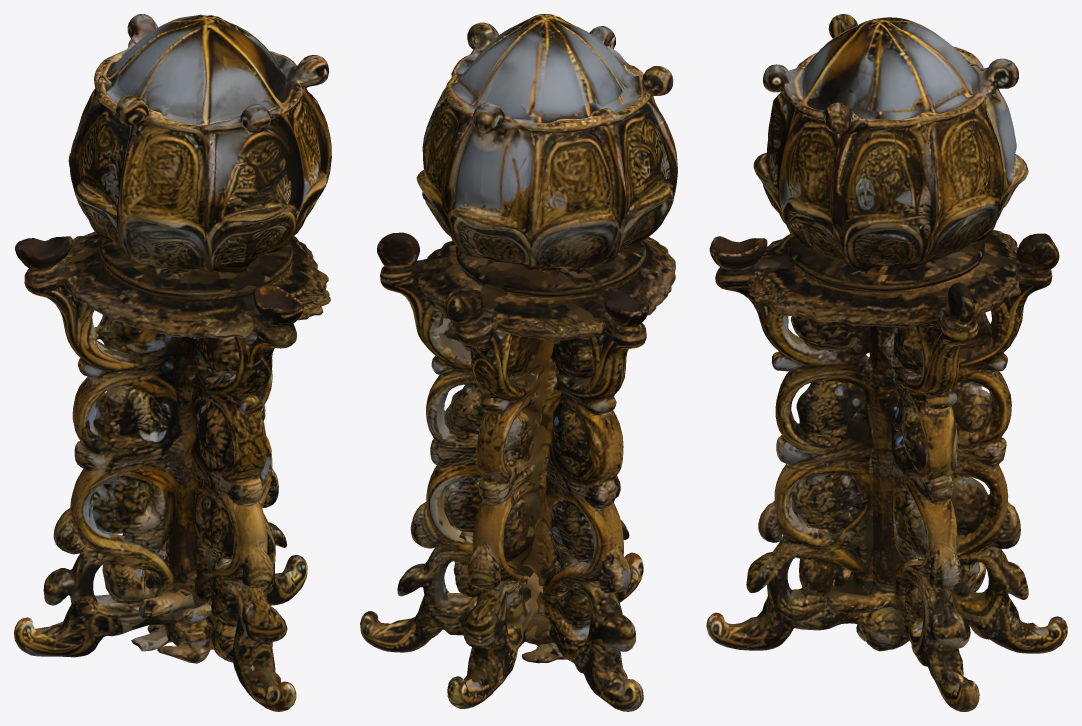
3 views of the same model, side by side, from view 1: azimuth 30°, elevation 25°; view 2: azimuth 150°, elevation 25°; view 3: azimuth 270°, elevation 25° (orthographic).
Visible parts, largest first — view 1: textured_mesh; view 2: textured_mesh; view 3: textured_mesh.
Boxes of the visible parts, x1,y1,x2,y2 form: textured_mesh: (14,14,331,711); textured_mesh: (360,14,677,711); textured_mesh: (706,14,1067,711).
Bounding box in the file's own units: 0.9393 × 1.99 × 1.03.
1 material, 1 textured.
